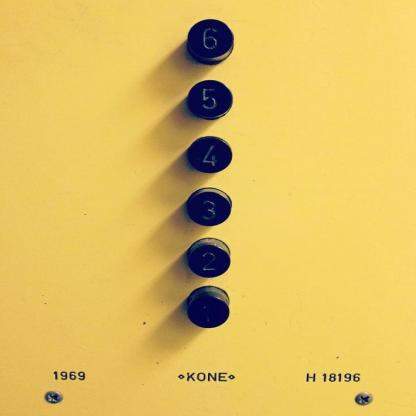2: (184, 236, 232, 278)
3: (185, 187, 233, 227)
4: (185, 136, 232, 173)
5: (186, 79, 232, 122)
6: (184, 18, 235, 67)
blur: (184, 285, 229, 329)
